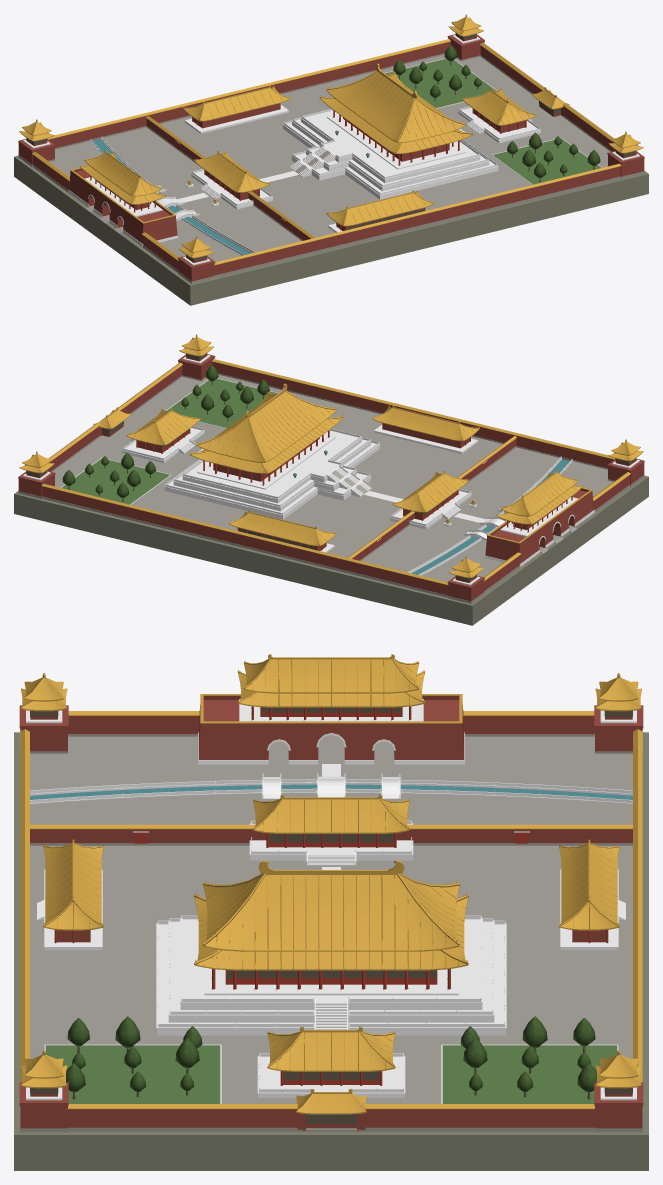
Rendered from top-prebuilt_close.fbx.
3 renders of one model, top to bottom at view 1: azimuth 30°, elevation 25°; view 2: azimuth 150°, elevation 25°; view 3: azimuth 270°, elevation 25°, orthographic. The views are drawn at different scales.
Visible parts, largest first — view 1: landmark-imperial_palace/0/top-prebuilt_close; view 2: landmark-imperial_palace/0/top-prebuilt_close; view 3: landmark-imperial_palace/0/top-prebuilt_close.
Part boxes in pixels (box(x1,y1,x2,y2)): landmark-imperial_palace/0/top-prebuilt_close: box(14, 14, 648, 305); landmark-imperial_palace/0/top-prebuilt_close: box(14, 334, 648, 625); landmark-imperial_palace/0/top-prebuilt_close: box(14, 654, 648, 1170).
Size of the model in its own units: 240 by 46 by 160.
